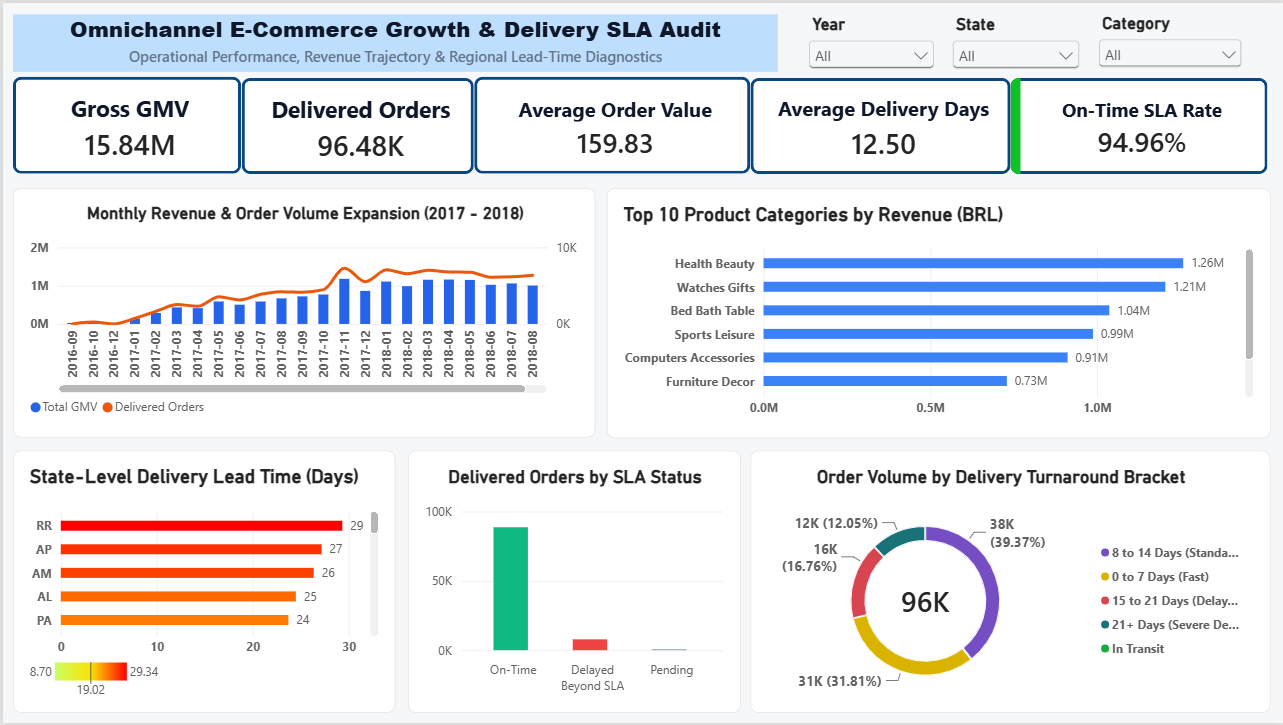

This screenshot's page, from the dashboard's own definition file:
{"tool":"powerbi","page":{"name":"Executive & Logistics SLA","canvas":[1280,720],"ordinal":0},"visuals":[{"type":"shape","title":"Omnichannel E-Commerce Growth & Delivery SLA Audit","box":[10,11.2,765,57.5],"z":0},{"type":"slicer","fields":{"Values":["Dim_Date.Year","Dim_Date.Quarter"]},"box":[801.4,11,134.5,60.4],"z":1000},{"type":"slicer","fields":{"Values":["clean_customers.customer_state"]},"box":[945.5,11,135.8,56.3],"z":2000},{"type":"slicer","fields":{"Values":["clean_products.category_name"]},"box":[1091.2,10,152.5,58.8],"z":3000},{"type":"cardVisual","fields":{"Data":["_Measures.Total GMV"]},"box":[10,73.8,228.8,97.5],"z":4000},{"type":"cardVisual","fields":{"Data":["_Measures.Delivered Orders"]},"box":[238.8,75,232.5,96.2],"z":5000},{"type":"cardVisual","fields":{"Data":["_Measures.AOV"]},"box":[471.2,73.8,276.2,97.5],"z":6000},{"type":"cardVisual","fields":{"Data":["_Measures.Avg Delivery Lead Time"]},"box":[747.5,75,260,96.2],"z":7000},{"type":"cardVisual","fields":{"Data":["_Measures.On Time Delivery Rate %"]},"box":[1007.5,75,257.5,96.2],"z":8000},{"type":"lineClusteredColumnComboChart","title":"Monthly Revenue & Order Volume Expansion (2017 - 2018)","fields":{"Category":["clean_orders.Order_Month"],"Y":["_Measures.Total GMV"],"Y2":["_Measures.Delivered Orders"]},"box":[9.7,184.6,582.7,249.7],"z":9000},{"type":"clusteredBarChart","title":"Top 10 Product Categories by Revenue (BRL)","fields":{"Category":["clean_products.category_name"],"Y":["_Measures.Product Revenue"]},"box":[603.8,185,663.8,250],"z":10000},{"type":"clusteredBarChart","title":"State-Level Delivery Lead Time (Days)","fields":{"Category":["clean_customers.customer_state"],"Y":["_Measures.Avg Delivery Lead Time"]},"box":[10,447.5,382.5,262.5],"z":11000},{"type":"donutChart","title":"Order Volume by Delivery Turnaround Bracket","fields":{"Category":["clean_orders.Delivery_Speed_Bucket"],"Y":["_Measures.Delivered Orders"]},"box":[747.5,447.5,520,262.5],"z":12000},{"type":"clusteredColumnChart","title":"Delivered Orders by SLA Status","fields":{"Category":["clean_orders.SLA_Status"],"Y":["_Measures.Delivered Orders"]},"box":[405,447.5,332.5,262.5],"z":13000}]}

Visuals, with their boxes in screenshot pixels (x1, y1, x2, y2), scaled from the page's 1280x720 canvas onto the 1283x725 screenshot:
"Omnichannel E-Commerce Growth & Delivery SLA Audit" shape: region(10, 11, 777, 69)
slicer - Dim_Date.Year x Dim_Date.Quarter: region(803, 11, 938, 72)
slicer - clean_customers.customer_state: region(948, 11, 1084, 68)
slicer - clean_products.category_name: region(1094, 10, 1247, 69)
cardVisual - _Measures.Total GMV: region(10, 74, 239, 172)
cardVisual - _Measures.Delivered Orders: region(239, 76, 472, 172)
cardVisual - _Measures.AOV: region(472, 74, 749, 172)
cardVisual - _Measures.Avg Delivery Lead Time: region(749, 76, 1010, 172)
cardVisual - _Measures.On Time Delivery Rate %: region(1010, 76, 1268, 172)
"Monthly Revenue & Order Volume Expansion (2017 - 2018)" lineClusteredColumnComboChart: region(10, 186, 594, 437)
"Top 10 Product Categories by Revenue (BRL)" clusteredBarChart: region(605, 186, 1271, 438)
"State-Level Delivery Lead Time (Days)" clusteredBarChart: region(10, 451, 393, 715)
"Order Volume by Delivery Turnaround Bracket" donutChart: region(749, 451, 1270, 715)
"Delivered Orders by SLA Status" clusteredColumnChart: region(406, 451, 739, 715)
